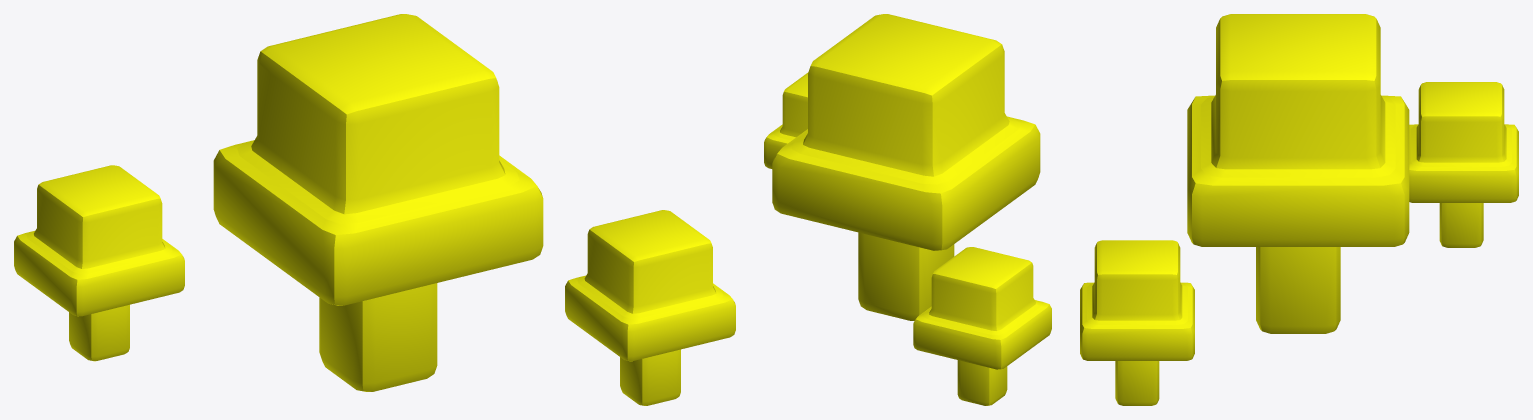
Rendered from Mushroom.glb.
The picture shows the model from 3 angles, left to right: view 1: azimuth 30°, elevation 25°; view 2: azimuth 150°, elevation 25°; view 3: azimuth 270°, elevation 25°; orthographic projection. The views are drawn at different scales.
Parts seen in each view (by area): view 1: Mushroom; view 2: Mushroom; view 3: Mushroom.
Part boxes in pixels (left/top/right/bottom): Mushroom: left=14, top=14, right=735, bottom=405; Mushroom: left=764, top=14, right=1051, bottom=405; Mushroom: left=1080, top=14, right=1518, bottom=405.
Bounding box in the file's own units: 1.8 × 1.13 × 1.62.
1 material, 1 textured.
